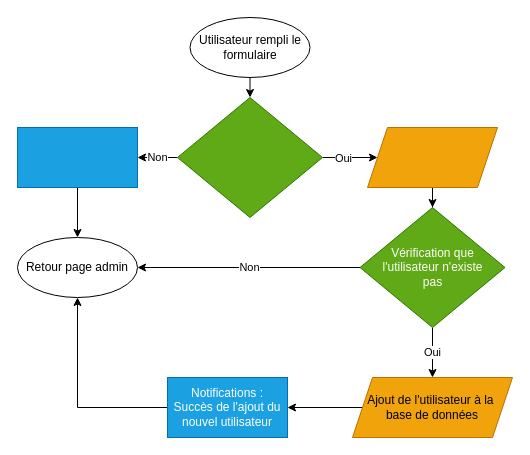
The diagram is 530 pixels wide and 455 high, and some of its shapes have lost their labels. Here are the shapes that lost their labels. From the top down, the box of each, then its label:
(16, 126, 138, 188): Message d'erreur : Champ mal complété
(176, 96, 322, 218): Vérification que les données ne soient pas vide (JS)
(366, 126, 498, 188): Envoi le formulaire au code PHP
